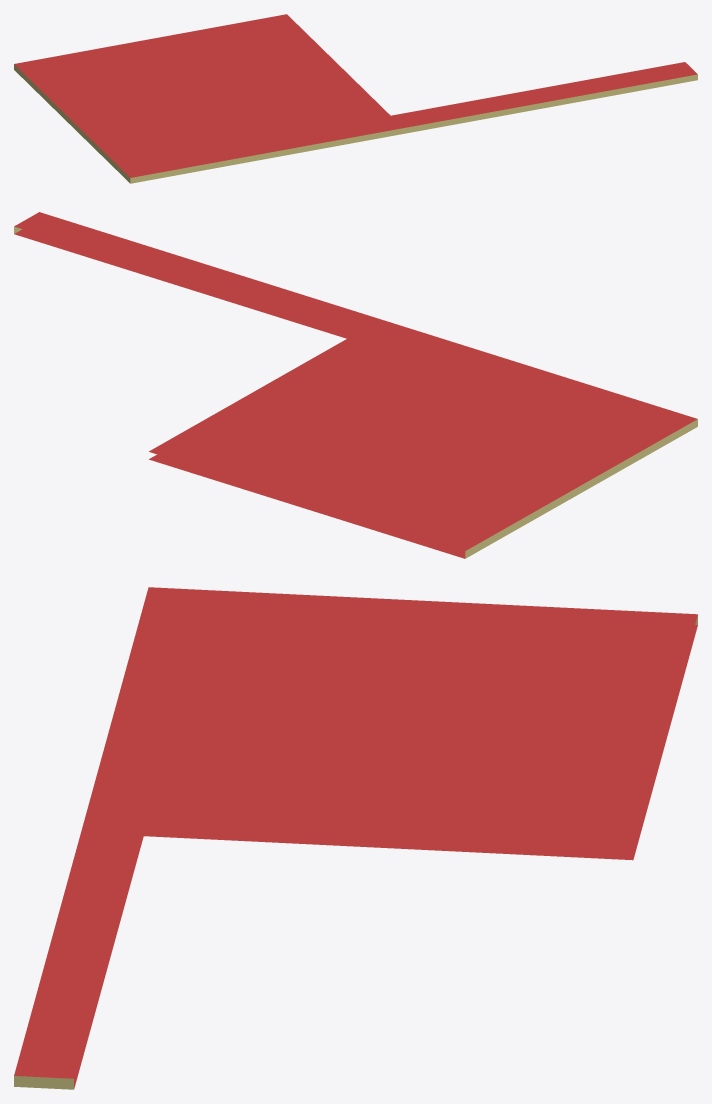
The picture shows the model from 3 angles, top to bottom: view 1: azimuth 30°, elevation 25°; view 2: azimuth 150°, elevation 25°; view 3: azimuth 270°, elevation 25°; orthographic projection. The views are drawn at different scales.
Bounding box in the file's own units: 9.62 × 5.66 × 0.1.
